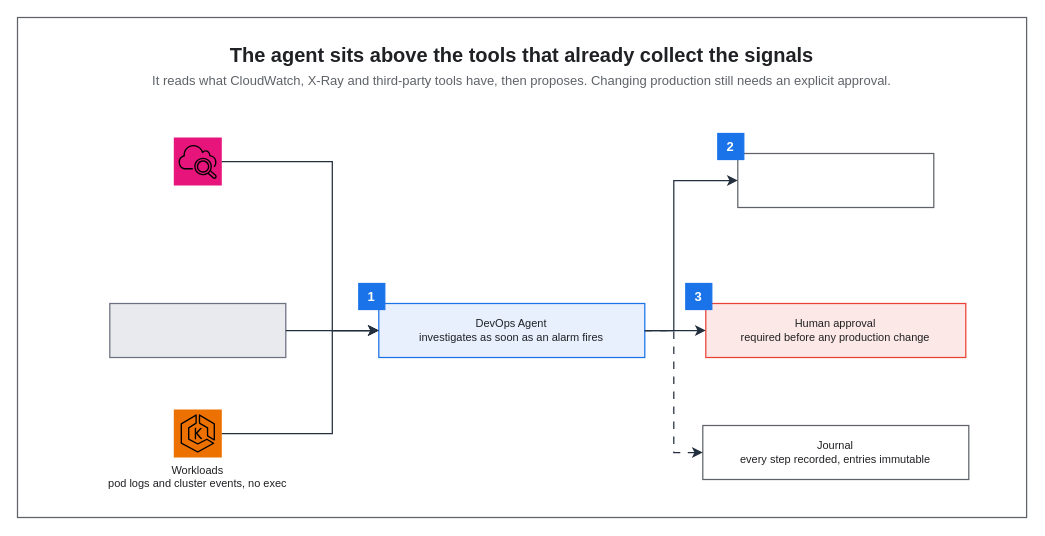
Image size: 1045x536. Some labels were removed from this diagram. The shapes that lost their labels are listed below. From the top down, each one's centre as x and y in pixels, then its label:
(x=197, y=161): CloudWatch metrics, logs, alarms
(x=835, y=180): Incident report free text, not typed fields
(x=197, y=330): Grafana and Datadog read-only, one-way
